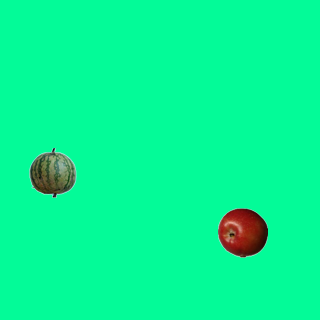Apple Braeburn: (217, 207, 267, 257)
Watermelon: (27, 147, 77, 197)
